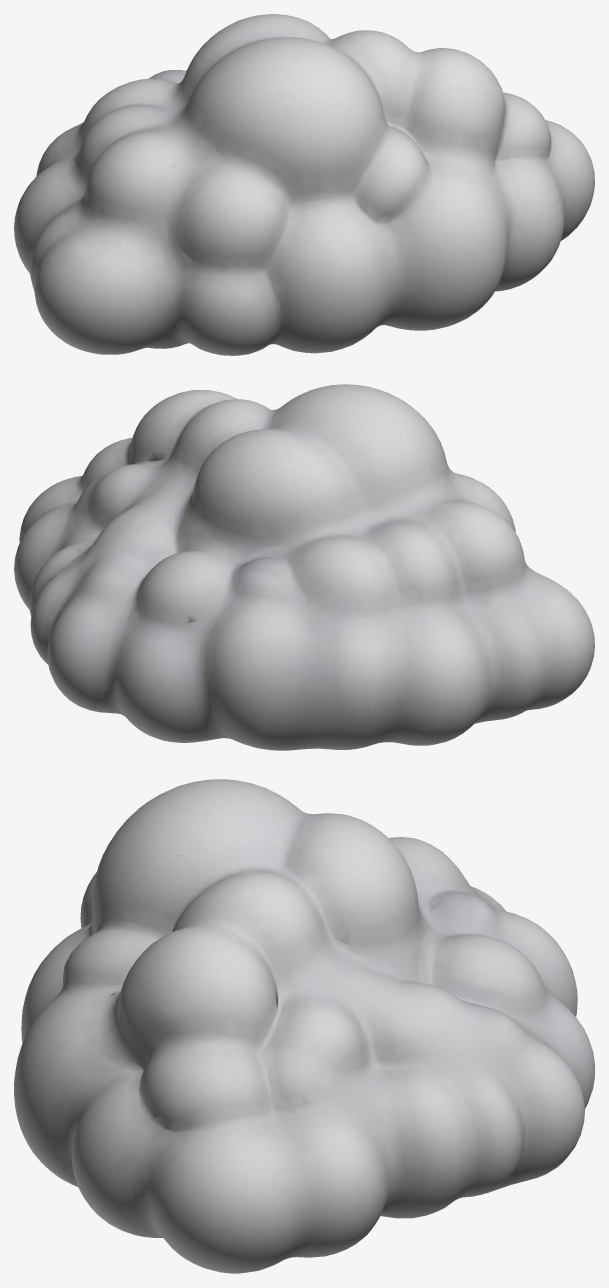
File: awan.glb
The picture shows the model from 3 angles, top to bottom: view 1: azimuth 30°, elevation 25°; view 2: azimuth 150°, elevation 25°; view 3: azimuth 270°, elevation 25°; orthographic projection. The views are drawn at different scales.
Visible parts, largest first — view 1: node_0; view 2: node_0; view 3: node_0.
Boxes of the visible parts, x1=… form: node_0: x1=14, y1=14, x2=594, y2=355; node_0: x1=14, y1=384, x2=594, y2=750; node_0: x1=14, y1=779, x2=594, y2=1273.
Bounding box in the file's own units: 1.14 × 0.5333 × 0.8449.
1 material, 1 textured.
